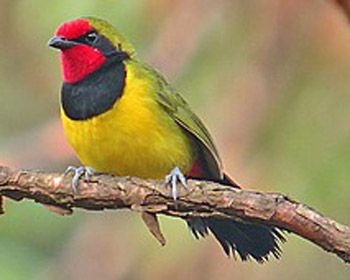bird: (45, 13, 299, 267)
